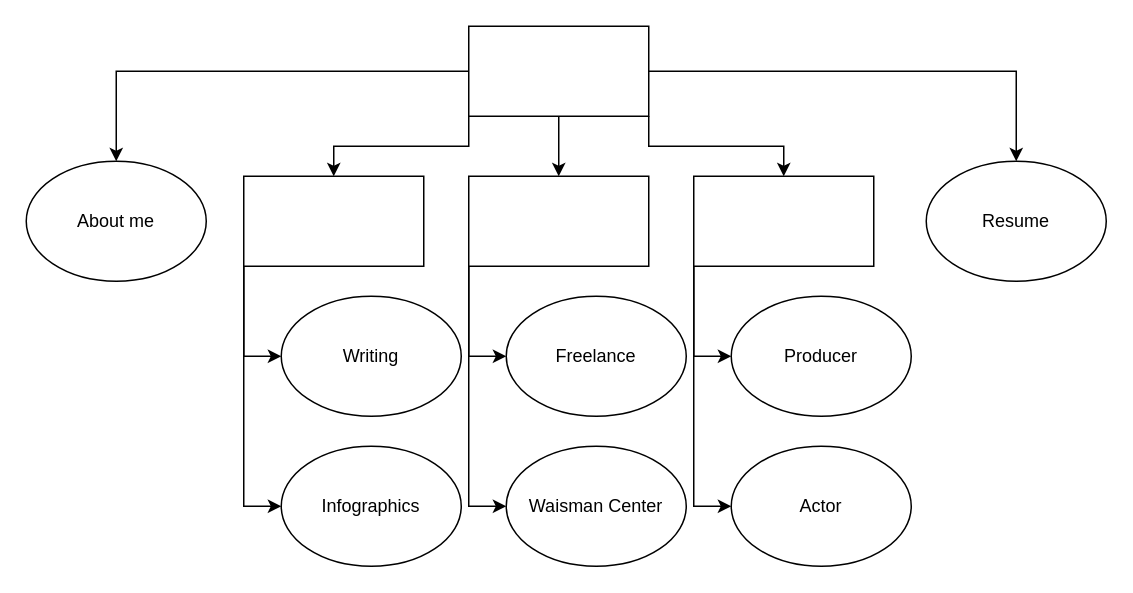
Some shapes in this 1133 by 593 pixel diagram are drawn without their labels. Each missing label, with the box of its shape:
Film: (692, 175, 874, 266)
Homepage: (467, 25, 649, 116)
Science Journalism: (467, 175, 649, 266)
Technical writing: (242, 175, 424, 266)
